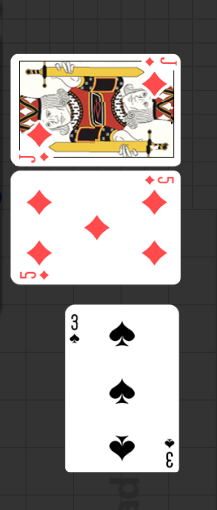3S: (162, 435, 175, 469)
5D: (143, 174, 175, 186)
9D: (144, 55, 178, 67)
